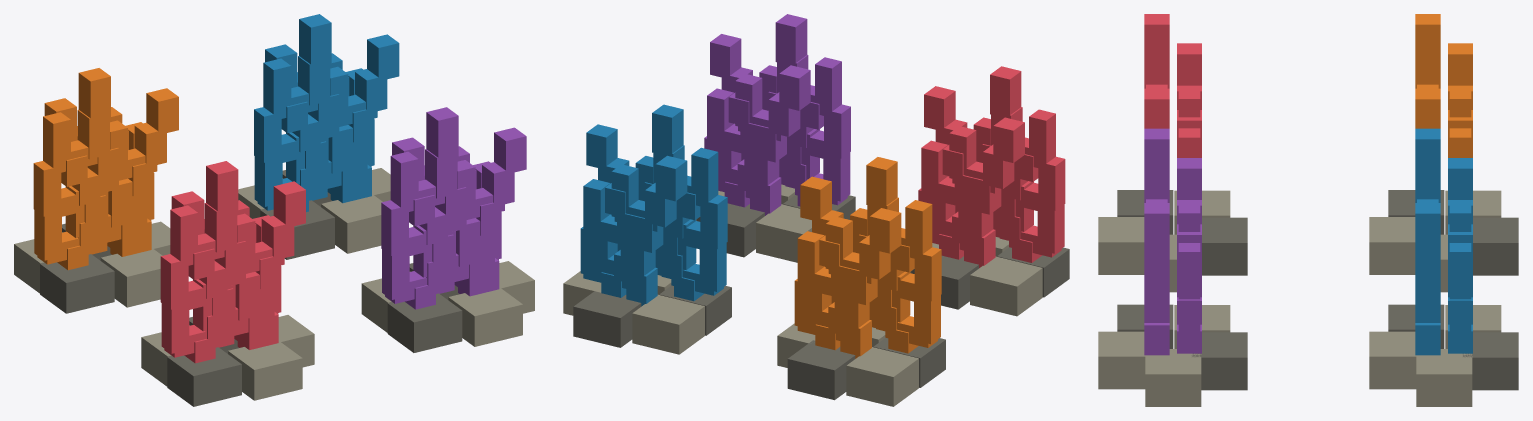
The model's file is coral_kit.glb.
3 views of the same model, side by side, from view 1: azimuth 30°, elevation 25°; view 2: azimuth 150°, elevation 25°; view 3: azimuth 270°, elevation 25° (orthographic). The views are drawn at different scales.
Parts seen in each view (by area): view 1: coral_0__coral.001, coral_2__orange.001, coral_1__purple.001, coral_3__ocean2.001, coral_0__stone.001, coral_1__stone.001, coral_2__stone.001, coral_3__stone.001, coral_1__stone_dark.001, coral_0__stone_dark.001, coral_2__stone_dark.001, coral_3__stone_dark.001; view 2: coral_3__ocean2.001, coral_2__orange.001, coral_0__coral.001, coral_1__purple.001, coral_3__stone.001, coral_2__stone.001, coral_2__stone_dark.001, coral_3__stone_dark.001, coral_0__stone.001, coral_0__stone_dark.001, coral_1__stone.001, coral_1__stone_dark.001; view 3: coral_1__purple.001, coral_3__ocean2.001, coral_3__stone.001, coral_1__stone.001, coral_0__coral.001, coral_2__orange.001, coral_0__stone.001, coral_2__stone.001, coral_3__stone_dark.001, coral_1__stone_dark.001, coral_0__stone_dark.001, coral_2__stone_dark.001.
Boxes of the visible parts, x1,y1,x2,y2 form: coral_0__coral.001: (160, 161, 305, 363); coral_2__orange.001: (33, 68, 178, 270); coral_1__purple.001: (381, 107, 526, 309); coral_3__ocean2.001: (254, 14, 399, 211); coral_0__stone.001: (141, 315, 314, 400); coral_1__stone.001: (361, 261, 534, 346); coral_2__stone.001: (14, 221, 170, 307); coral_3__stone.001: (238, 168, 390, 253); coral_1__stone_dark.001: (387, 263, 462, 352); coral_0__stone_dark.001: (167, 317, 241, 406); coral_2__stone_dark.001: (40, 223, 114, 313); coral_3__stone_dark.001: (260, 170, 334, 259); coral_3__ocean2.001: (580, 104, 727, 306); coral_2__orange.001: (794, 157, 941, 358); coral_0__coral.001: (918, 66, 1065, 268); coral_1__purple.001: (704, 14, 850, 215); coral_3__stone.001: (563, 271, 704, 354); coral_2__stone.001: (777, 323, 918, 406); coral_2__stone_dark.001: (787, 338, 945, 400); coral_3__stone_dark.001: (573, 285, 731, 347); coral_0__stone.001: (910, 237, 1042, 316); coral_0__stone_dark.001: (911, 247, 1069, 309); coral_1__stone.001: (696, 184, 811, 262); coral_1__stone_dark.001: (697, 195, 855, 257); coral_1__purple.001: (1144, 128, 1201, 355); coral_3__ocean2.001: (1415, 128, 1472, 355); coral_3__stone.001: (1369, 305, 1501, 406); coral_1__stone.001: (1098, 305, 1230, 406); coral_0__coral.001: (1144, 14, 1201, 157); coral_2__orange.001: (1415, 14, 1472, 157); coral_0__stone.001: (1098, 190, 1230, 292); coral_2__stone.001: (1369, 190, 1501, 292); coral_3__stone_dark.001: (1388, 304, 1518, 390); coral_1__stone_dark.001: (1117, 304, 1247, 390); coral_0__stone_dark.001: (1117, 190, 1247, 275); coral_2__stone_dark.001: (1388, 190, 1518, 275).
Bounding box in the file's own units: 2.47 × 1.39 × 2.33.
